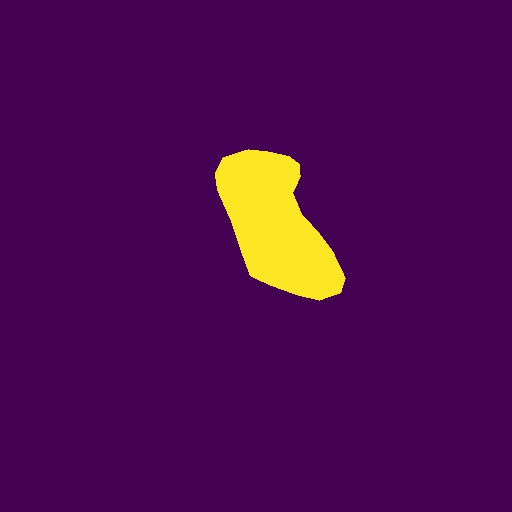Gliomia_tumour: (215, 149, 346, 301)
